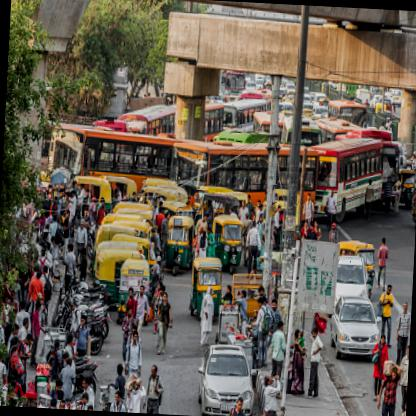bus: (168, 140, 318, 224), (53, 130, 172, 204), (302, 135, 384, 227), (114, 102, 176, 136), (223, 97, 268, 130), (328, 100, 368, 125)
car: (195, 344, 259, 415), (330, 296, 380, 360), (330, 256, 370, 312)
motorcycle: (409, 185, 415, 230)
